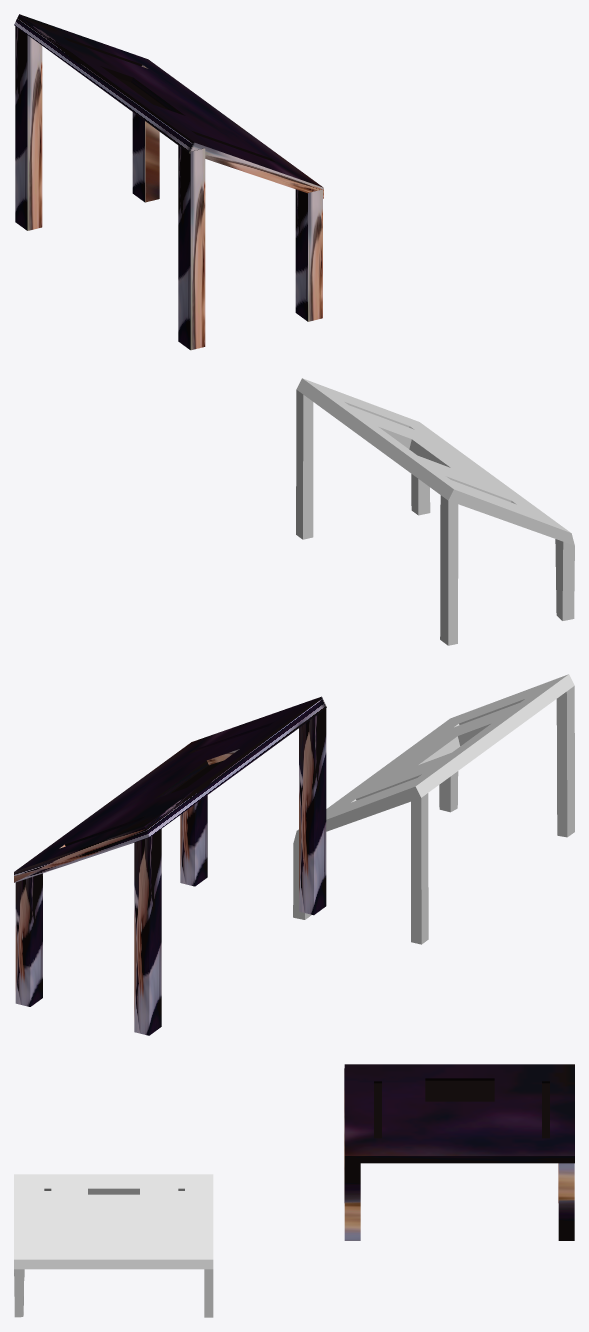
The model's file is desk.fbx.
The picture shows the model from 3 angles, top to bottom: view 1: azimuth 30°, elevation 25°; view 2: azimuth 150°, elevation 25°; view 3: azimuth 270°, elevation 25°; orthographic projection. The views are drawn at different scales.
Parts seen in each view (by area): view 1: Cube.001, Cube; view 2: Cube.001, Cube; view 3: Cube.001, Cube.
Part boxes in pixels (bbox=[...]): Cube.001: bbox=[14, 14, 323, 350]; Cube: bbox=[296, 378, 574, 645]; Cube.001: bbox=[14, 696, 326, 1035]; Cube: bbox=[293, 674, 574, 944]; Cube.001: bbox=[344, 1064, 574, 1240]; Cube: bbox=[14, 1174, 213, 1317].
Bounding box in the file's own units: 708 × 1628 × 3901.
